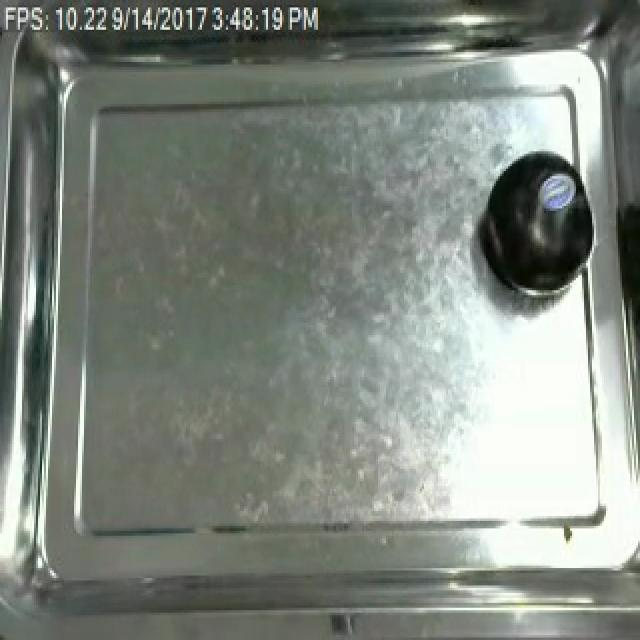Fruit: (476, 156, 600, 300)
